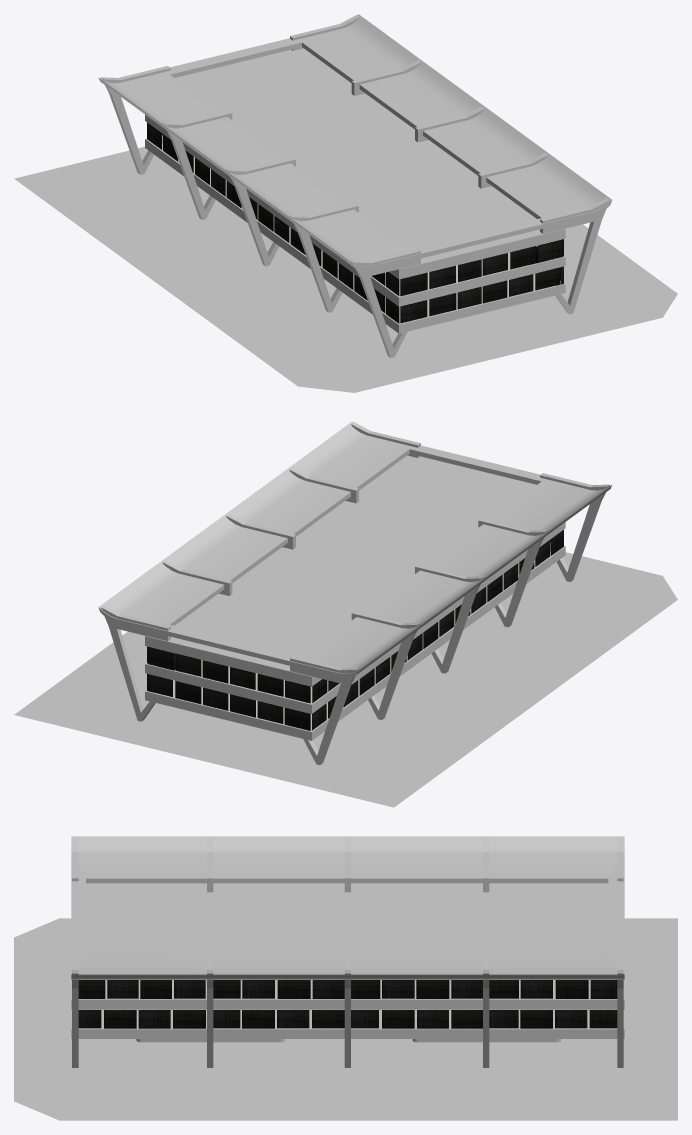
The picture shows the model from 3 angles, top to bottom: view 1: azimuth 30°, elevation 25°; view 2: azimuth 150°, elevation 25°; view 3: azimuth 270°, elevation 25°; orthographic projection. The views are drawn at different scales.
Visible parts, largest first — view 1: DC-01; view 2: DC-01; view 3: DC-01.
Part boxes in pixels (box(x1,y1,x2,y2)): DC-01: box(14, 14, 677, 392); DC-01: box(14, 421, 677, 807); DC-01: box(14, 836, 677, 1120).
Size of what is drawn, in the model's own units: 72 by 18.92 by 100.
